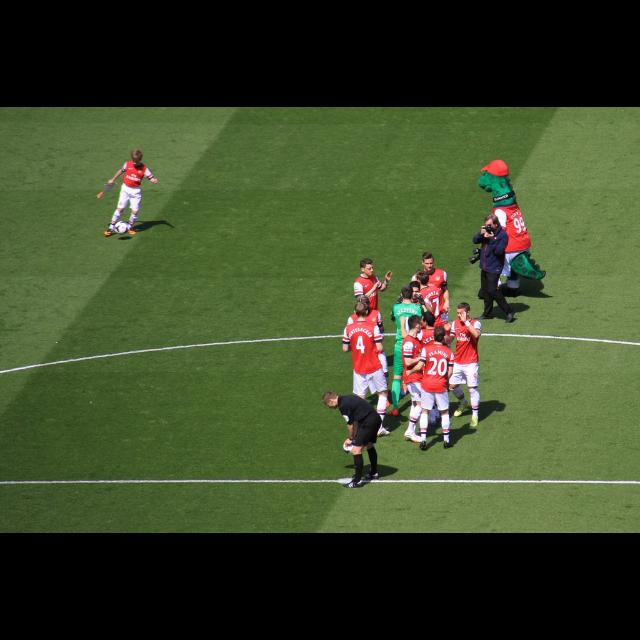Football: (114, 221, 126, 233)
